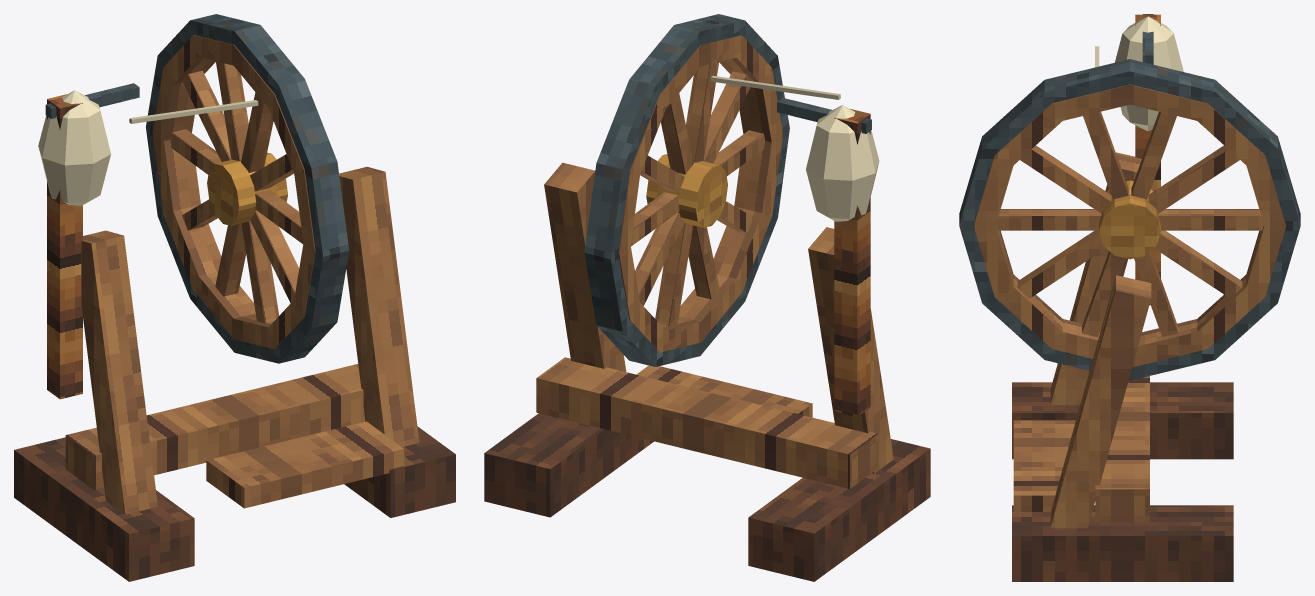
3 views of the same model, side by side, from view 1: azimuth 30°, elevation 25°; view 2: azimuth 150°, elevation 25°; view 3: azimuth 270°, elevation 25° (orthographic). The views are drawn at different scales.
Visible parts, largest first — view 1: body_oak, body_wood_dark, mechanism_iron, mechanism_oak, mechanism_oak_light, body_oak_light, body_wood, body_cream, mechanism_brass, body_iron, body_linen; view 2: body_oak, body_wood_dark, mechanism_iron, mechanism_oak, mechanism_oak_light, body_wood, body_cream, mechanism_brass, body_oak_light, body_iron, body_linen; view 3: body_wood_dark, body_oak, mechanism_oak, mechanism_oak_light, mechanism_iron, body_oak_light, mechanism_brass, body_cream, body_wood.
Part boxes in pixels (bbox=[...]): body_oak: bbox=[65, 166, 419, 514]; body_wood_dark: bbox=[14, 426, 455, 581]; mechanism_iron: bbox=[146, 14, 349, 363]; mechanism_oak: bbox=[152, 35, 315, 349]; mechanism_oak_light: bbox=[170, 61, 303, 323]; body_oak_light: bbox=[206, 421, 404, 508]; body_wood: bbox=[47, 94, 82, 399]; body_cream: bbox=[38, 90, 110, 205]; mechanism_brass: bbox=[207, 152, 287, 225]; body_iron: bbox=[45, 83, 139, 118]; body_linen: bbox=[129, 100, 258, 123]; body_oak: bbox=[536, 162, 893, 488]; body_wood_dark: bbox=[484, 413, 930, 581]; mechanism_iron: bbox=[584, 14, 789, 366]; mechanism_oak: bbox=[618, 35, 782, 352]; mechanism_oak_light: bbox=[630, 62, 764, 326]; body_wood: bbox=[834, 109, 870, 416]; body_cream: bbox=[806, 105, 879, 221]; mechanism_brass: bbox=[646, 154, 727, 227]; body_oak_light: bbox=[636, 365, 812, 417]; body_iron: bbox=[777, 98, 871, 133]; body_linen: bbox=[710, 75, 840, 99]; body_wood_dark: bbox=[1012, 382, 1233, 581]; body_oak: bbox=[1050, 152, 1151, 528]; mechanism_oak: bbox=[973, 84, 1286, 367]; mechanism_oak_light: bbox=[996, 111, 1263, 337]; mechanism_iron: bbox=[959, 59, 1300, 380]; body_oak_light: bbox=[1013, 420, 1075, 511]; mechanism_brass: bbox=[1099, 180, 1160, 259]; body_cream: bbox=[1115, 16, 1183, 130]; body_wood: bbox=[1135, 14, 1160, 305].
Size of the model in its own units: 1.05 by 1.36 by 0.94.
8 materials, 6 textured.
